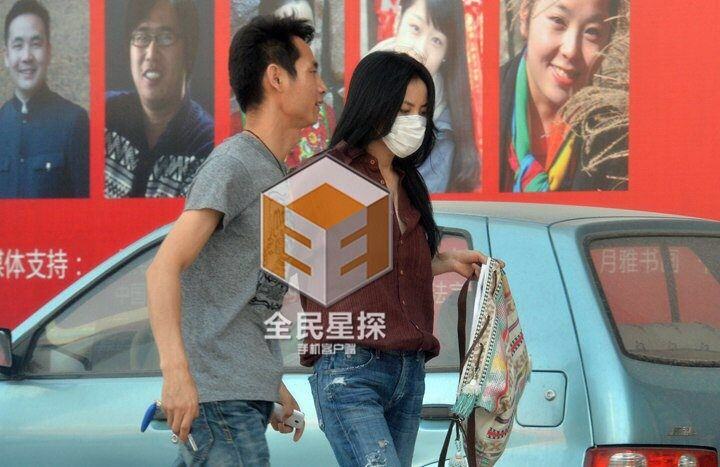face: (527, 1, 607, 104), (130, 16, 186, 108), (396, 1, 448, 77), (288, 45, 326, 126), (8, 20, 52, 86)
face_mask: (382, 83, 431, 155)
